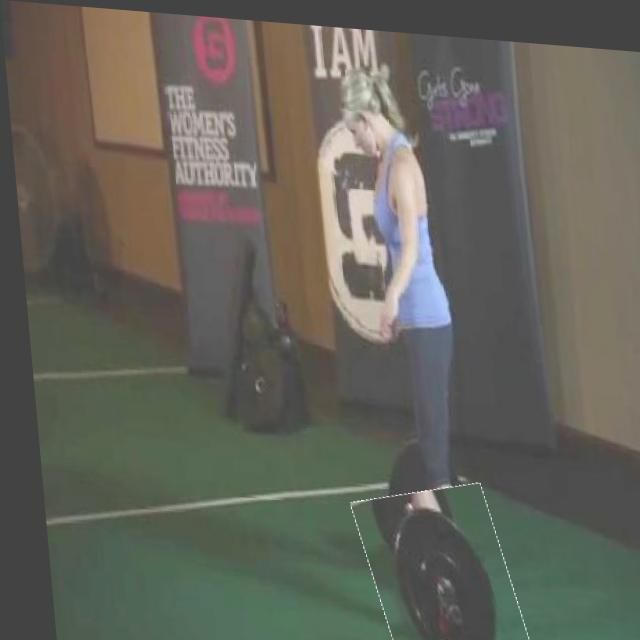barbell: (349, 474, 517, 640)
